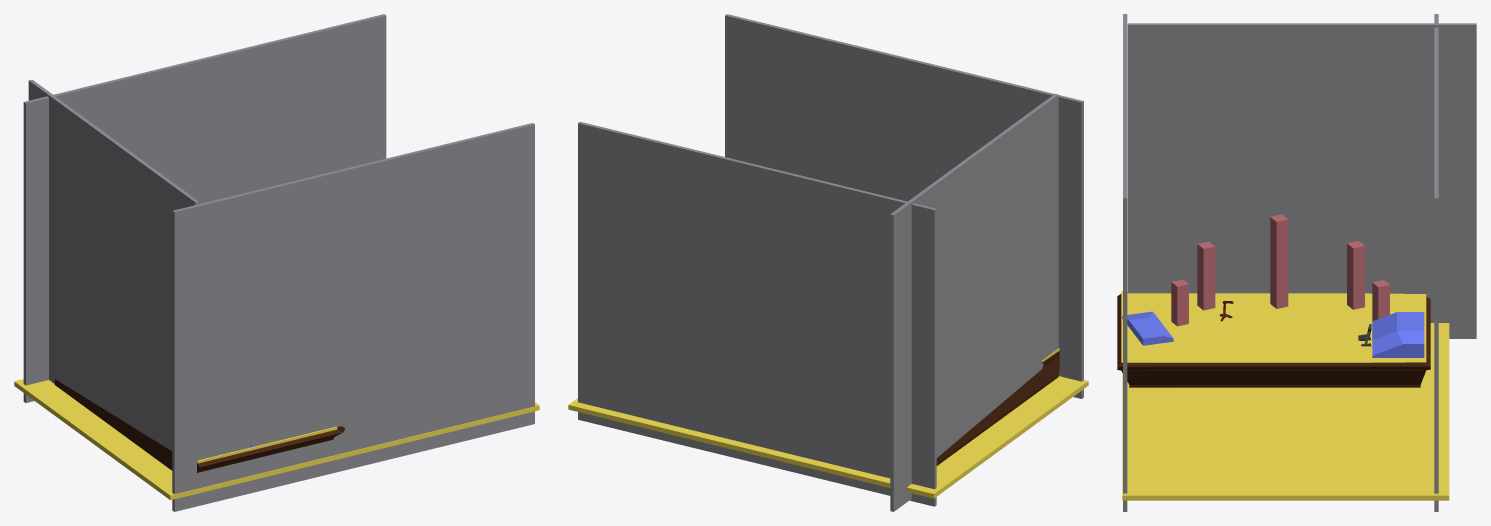
File: stage.gltf
3 views of the same model, side by side, from view 1: azimuth 30°, elevation 25°; view 2: azimuth 150°, elevation 25°; view 3: azimuth 270°, elevation 25° (orthographic). The views are drawn at different scales.
Visible parts, largest first — view 1: Cube.002, Cube.001, Cube, Cube.003, stage; view 2: Cube.001, Cube.002, Cube, Cube.003, stage; view 3: Cube, Cube.003, stage, Cube.002, Cube.001, Cube.010, Cube.006, Cube.005, Cube.007, Cube.009, Cube.004, Cube.008.
Boxes of the visible parts, left/top/right/bottom form: Cube.002: left=172, top=123, right=534, bottom=511; Cube.001: left=23, top=14, right=386, bottom=402; Cube: left=28, top=79, right=198, bottom=450; Cube.003: left=14, top=379, right=539, bottom=500; stage: left=54, top=379, right=344, bottom=472; Cube.001: left=578, top=121, right=936, bottom=506; Cube.002: left=725, top=14, right=1083, bottom=398; Cube: left=890, top=93, right=1058, bottom=511; Cube.003: left=568, top=376, right=1088, bottom=498; stage: left=936, top=348, right=1059, bottom=465; Cube: left=1127, top=23, right=1476, bottom=338; Cube.003: left=1122, top=323, right=1449, bottom=500; stage: left=1117, top=291, right=1430, bottom=387; Cube.002: left=1123, top=14, right=1127, bottom=511; Cube.001: left=1434, top=14, right=1438, bottom=511; Cube.010: left=1372, top=312, right=1424, bottom=357; Cube.006: left=1270, top=214, right=1288, bottom=308; Cube.005: left=1197, top=241, right=1215, bottom=310; Cube.007: left=1347, top=241, right=1364, bottom=309; Cube.009: left=1122, top=311, right=1173, bottom=345; Cube.004: left=1171, top=279, right=1188, bottom=326; Cube.008: left=1372, top=280, right=1389, bottom=321.
Size of the model in its own units: 103 by 81.89 by 82.52.
